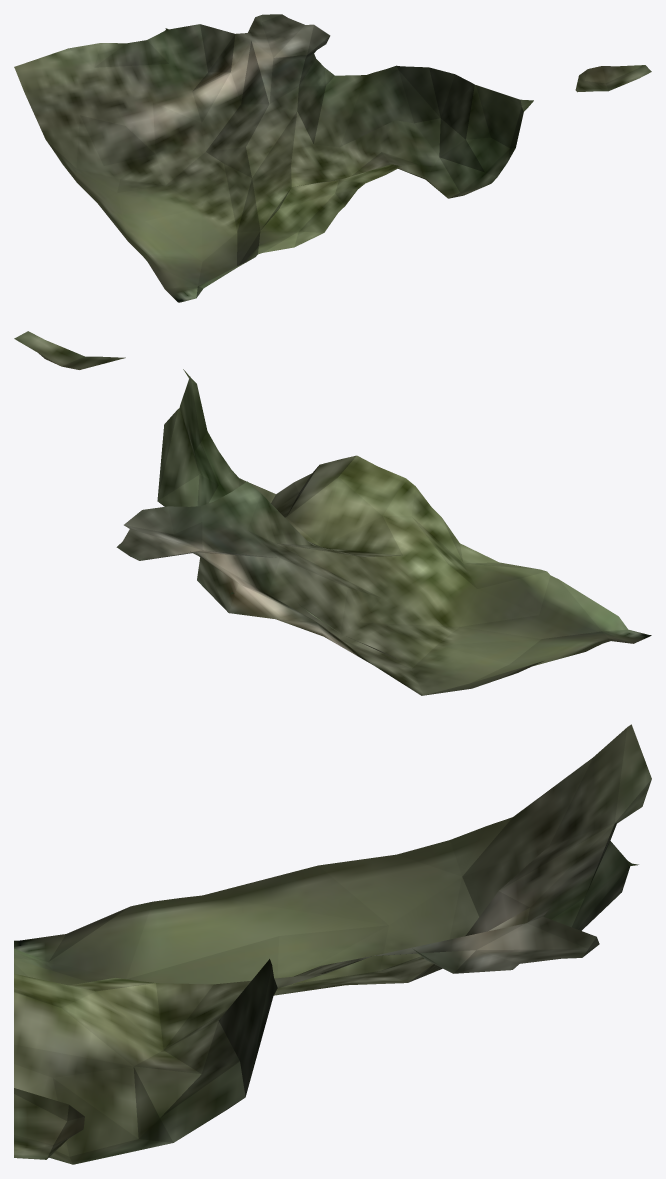
3 renders of one model, top to bottom at view 1: azimuth 30°, elevation 25°; view 2: azimuth 150°, elevation 25°; view 3: azimuth 270°, elevation 25°, orthographic. The views are drawn at different scales.
Bounding box in the file's own units: 5.35 × 1.24 × 3.31.
1 material, 1 textured.
